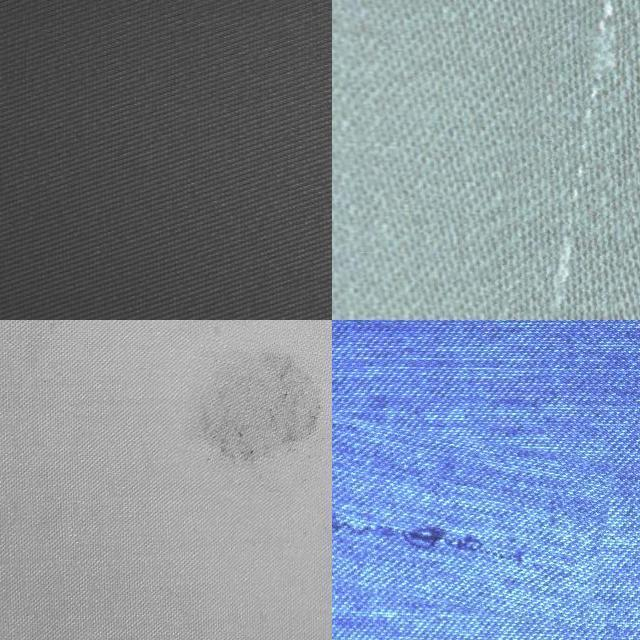Thread_other: (180, 320, 332, 486)
stains: (332, 410, 609, 615), (503, 0, 640, 320)
